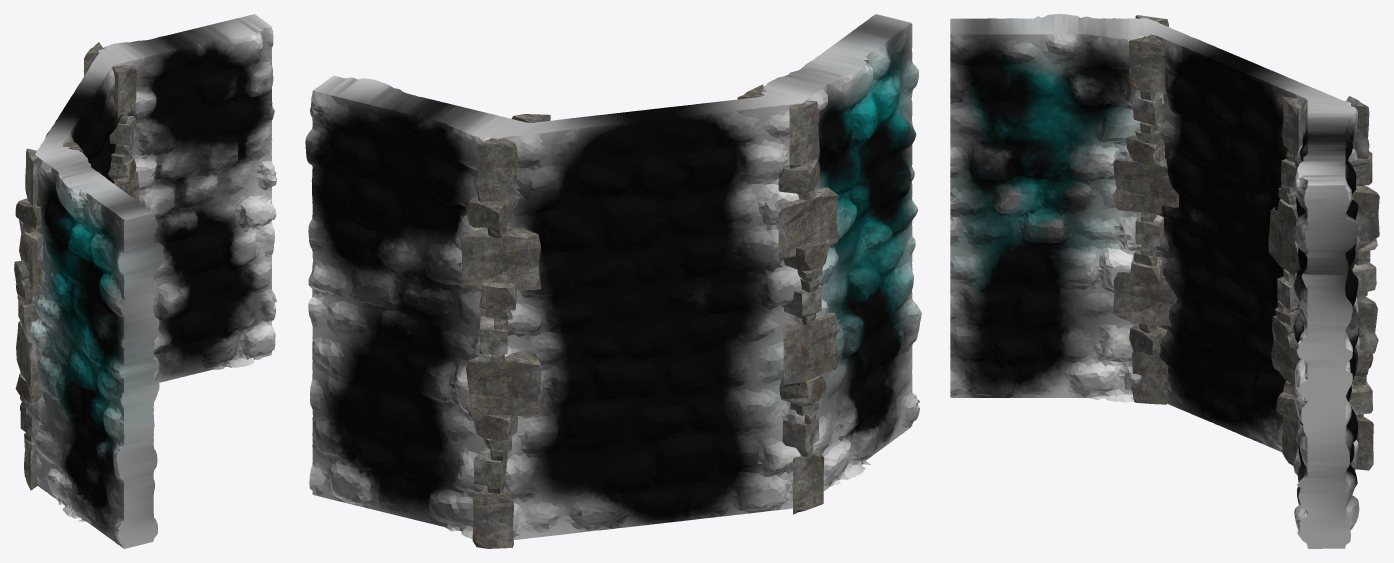
File: SM_CastleTower_Wall_A_03.fbx
3 renders of one model, left to right at view 1: azimuth 30°, elevation 25°; view 2: azimuth 150°, elevation 25°; view 3: azimuth 270°, elevation 25°, orthographic. The views are drawn at different scales.
Visible parts, largest first — view 1: SM_CastleTower_Wall_A_03_LOD0; view 2: SM_CastleTower_Wall_A_03_LOD0; view 3: SM_CastleTower_Wall_A_03_LOD0.
Part boxes in pixels (left/top/right/bottom): SM_CastleTower_Wall_A_03_LOD0: left=14, top=14, right=276, bottom=548; SM_CastleTower_Wall_A_03_LOD0: left=305, top=14, right=921, bottom=548; SM_CastleTower_Wall_A_03_LOD0: left=950, top=14, right=1379, bottom=548.
Bounding box in the file's own units: 417 × 428 × 400.
